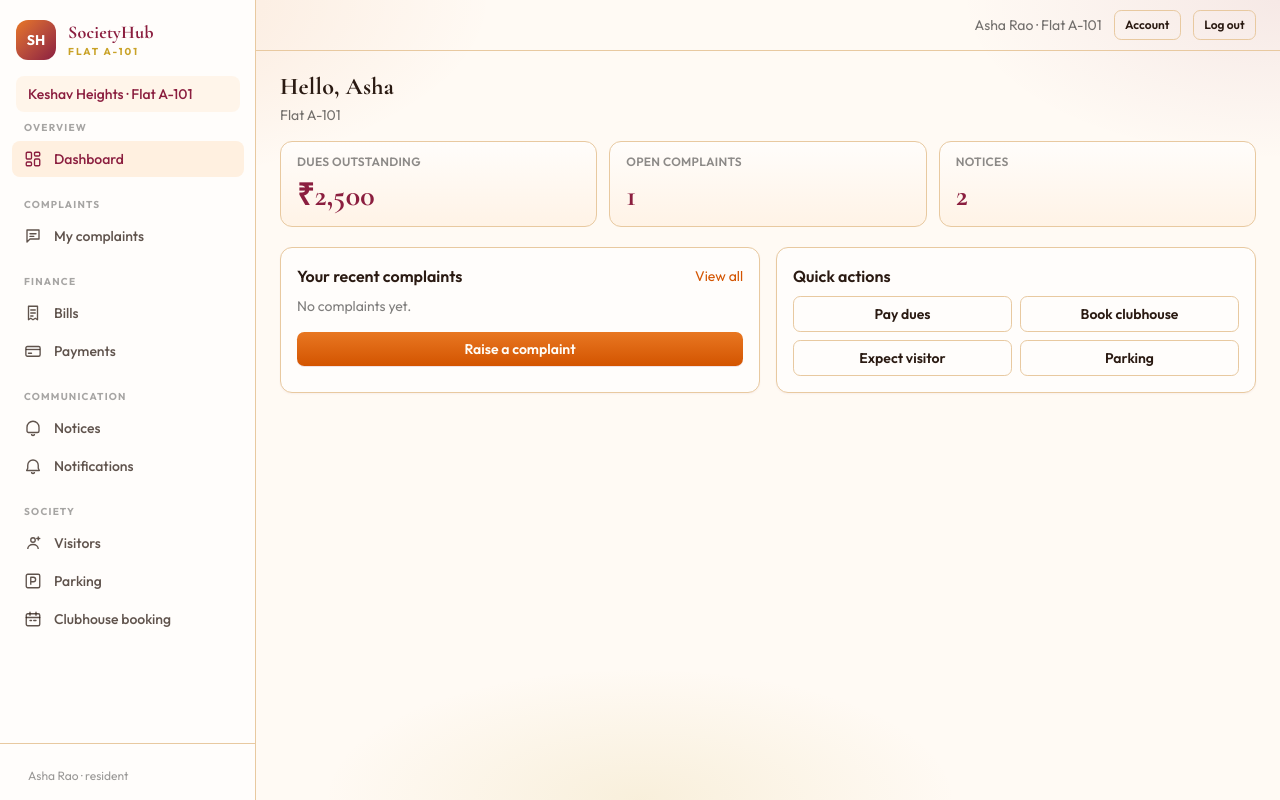
Test: Resident sidebar navigation › loads Dashboard, Bills, Payments and Notices from the sidebar
This screenshot has width=1280, height=800.
Expected: the heading "Hello, Asha" is shown, [280,72,394,101]
Click the link to "/bills". click: point(52, 313)
box: [24,304,79,322]
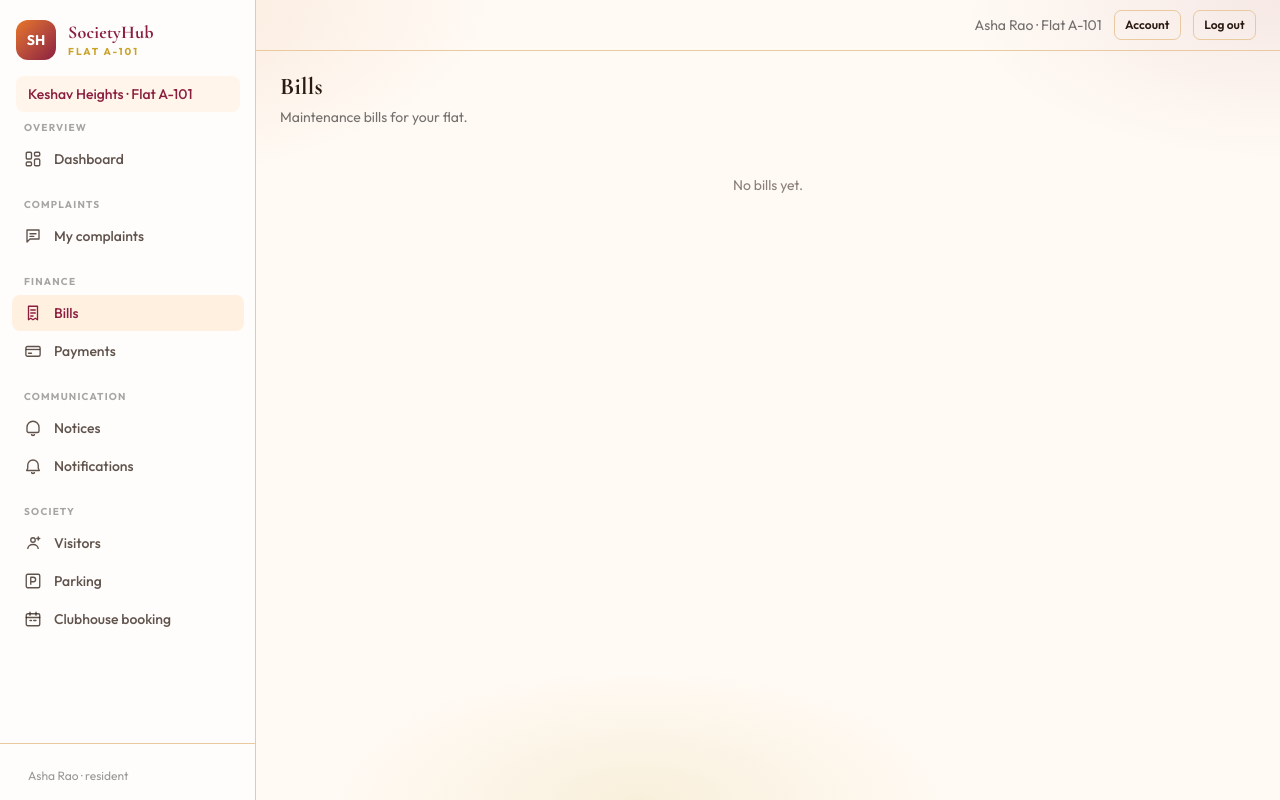
Expected: the heading "Bills" is shown, [280,72,323,101]
Click the link to "/payments". click: point(70, 351)
box: [24,342,116,360]
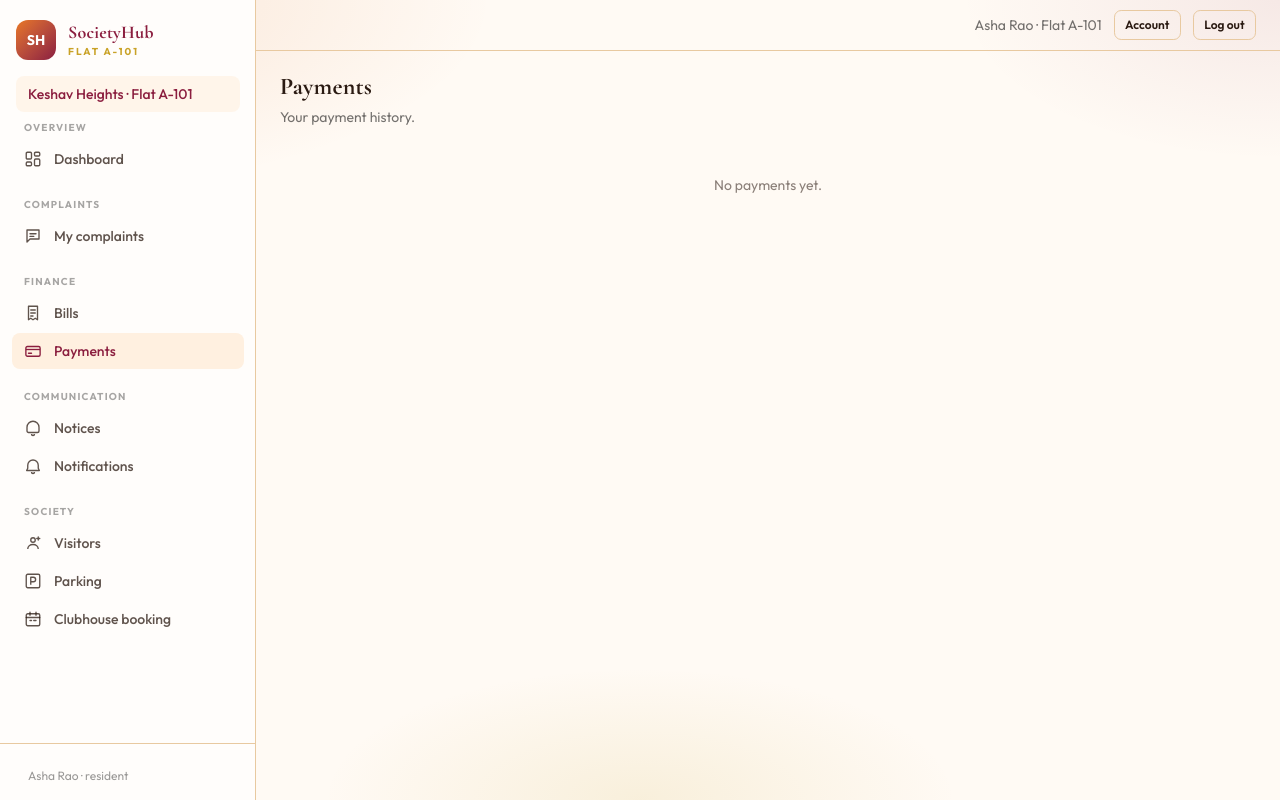
Expected: the heading "Payments" is shown, [280,72,372,101]
Click the link to "/notices". click: point(63, 428)
box: [24,419,101,437]
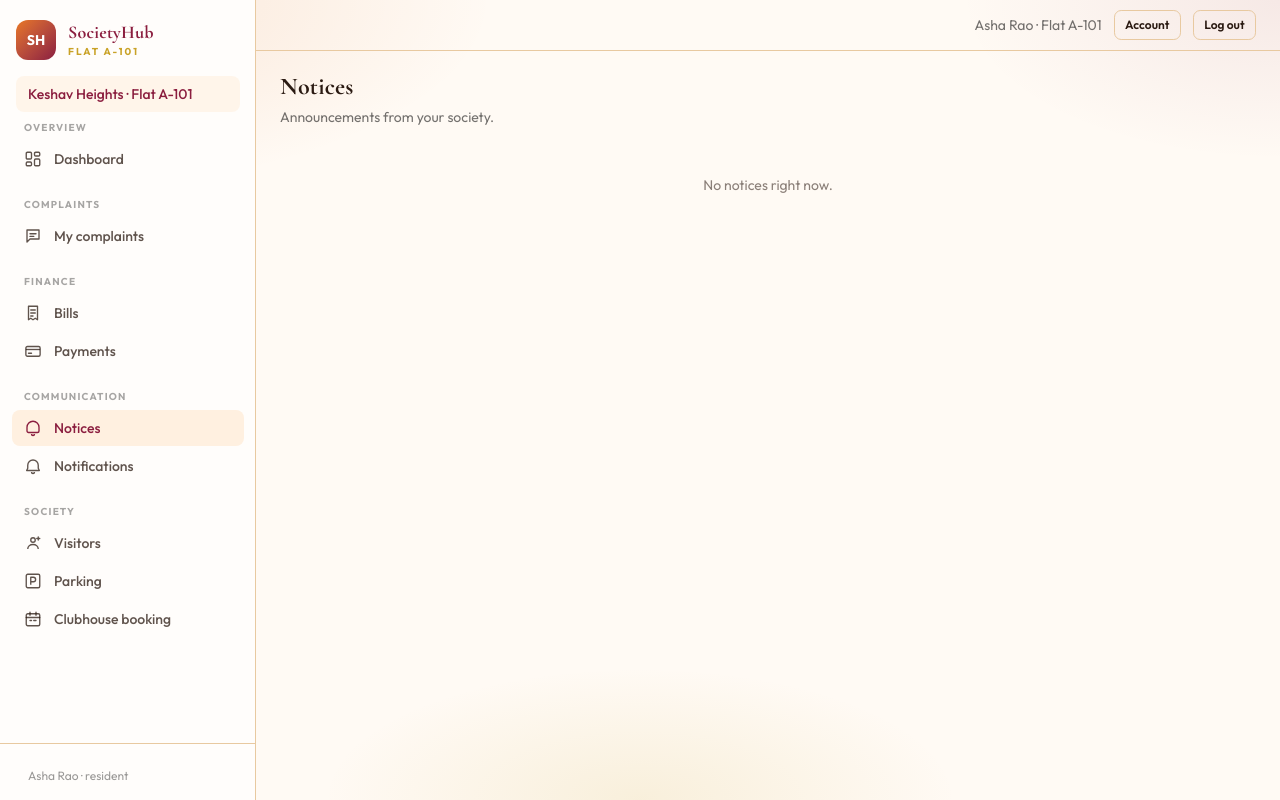
Expected: the heading "Notices" is shown, [280,72,354,101]
